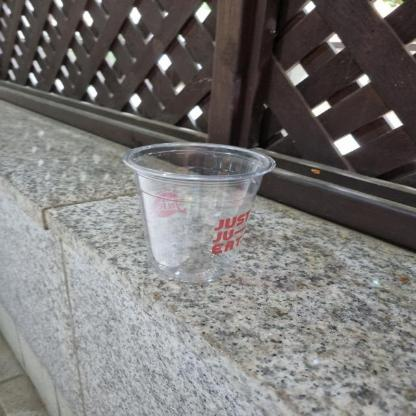Plastic Cup: (121, 138, 281, 288)
